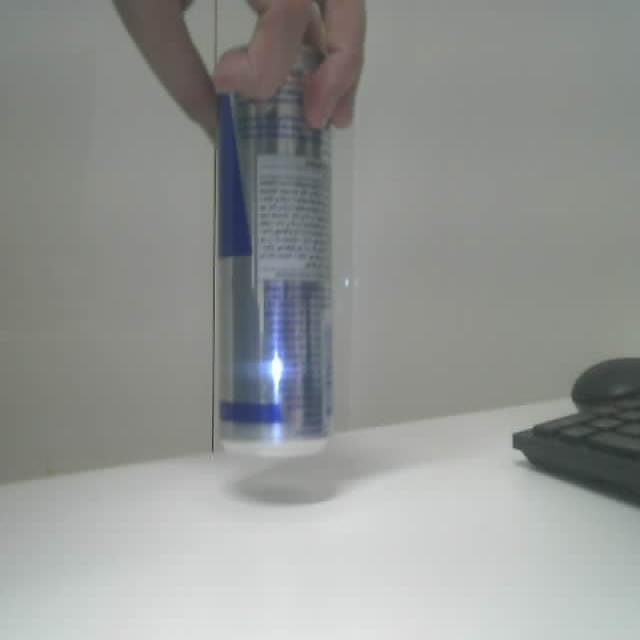redbull can: (215, 47, 331, 457)
